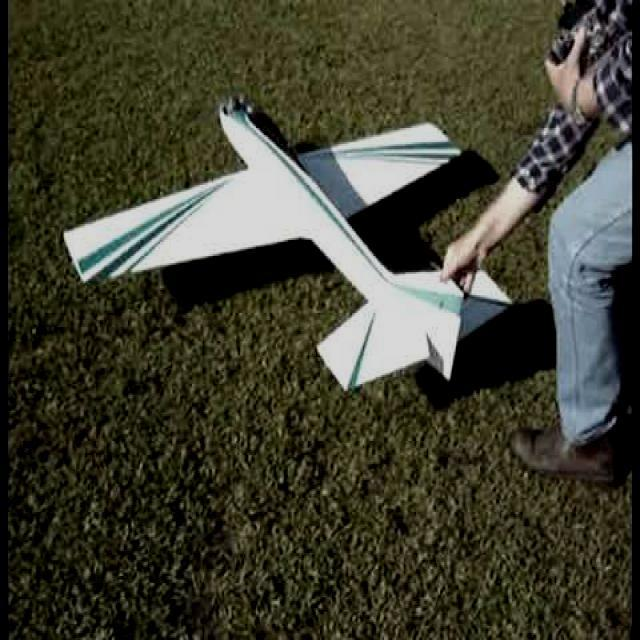iha: (59, 95, 514, 408)
